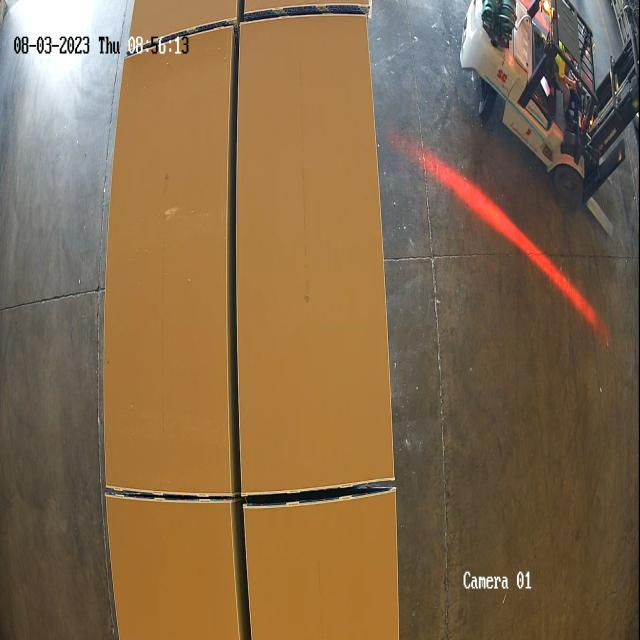forklift: (456, 2, 640, 210)
